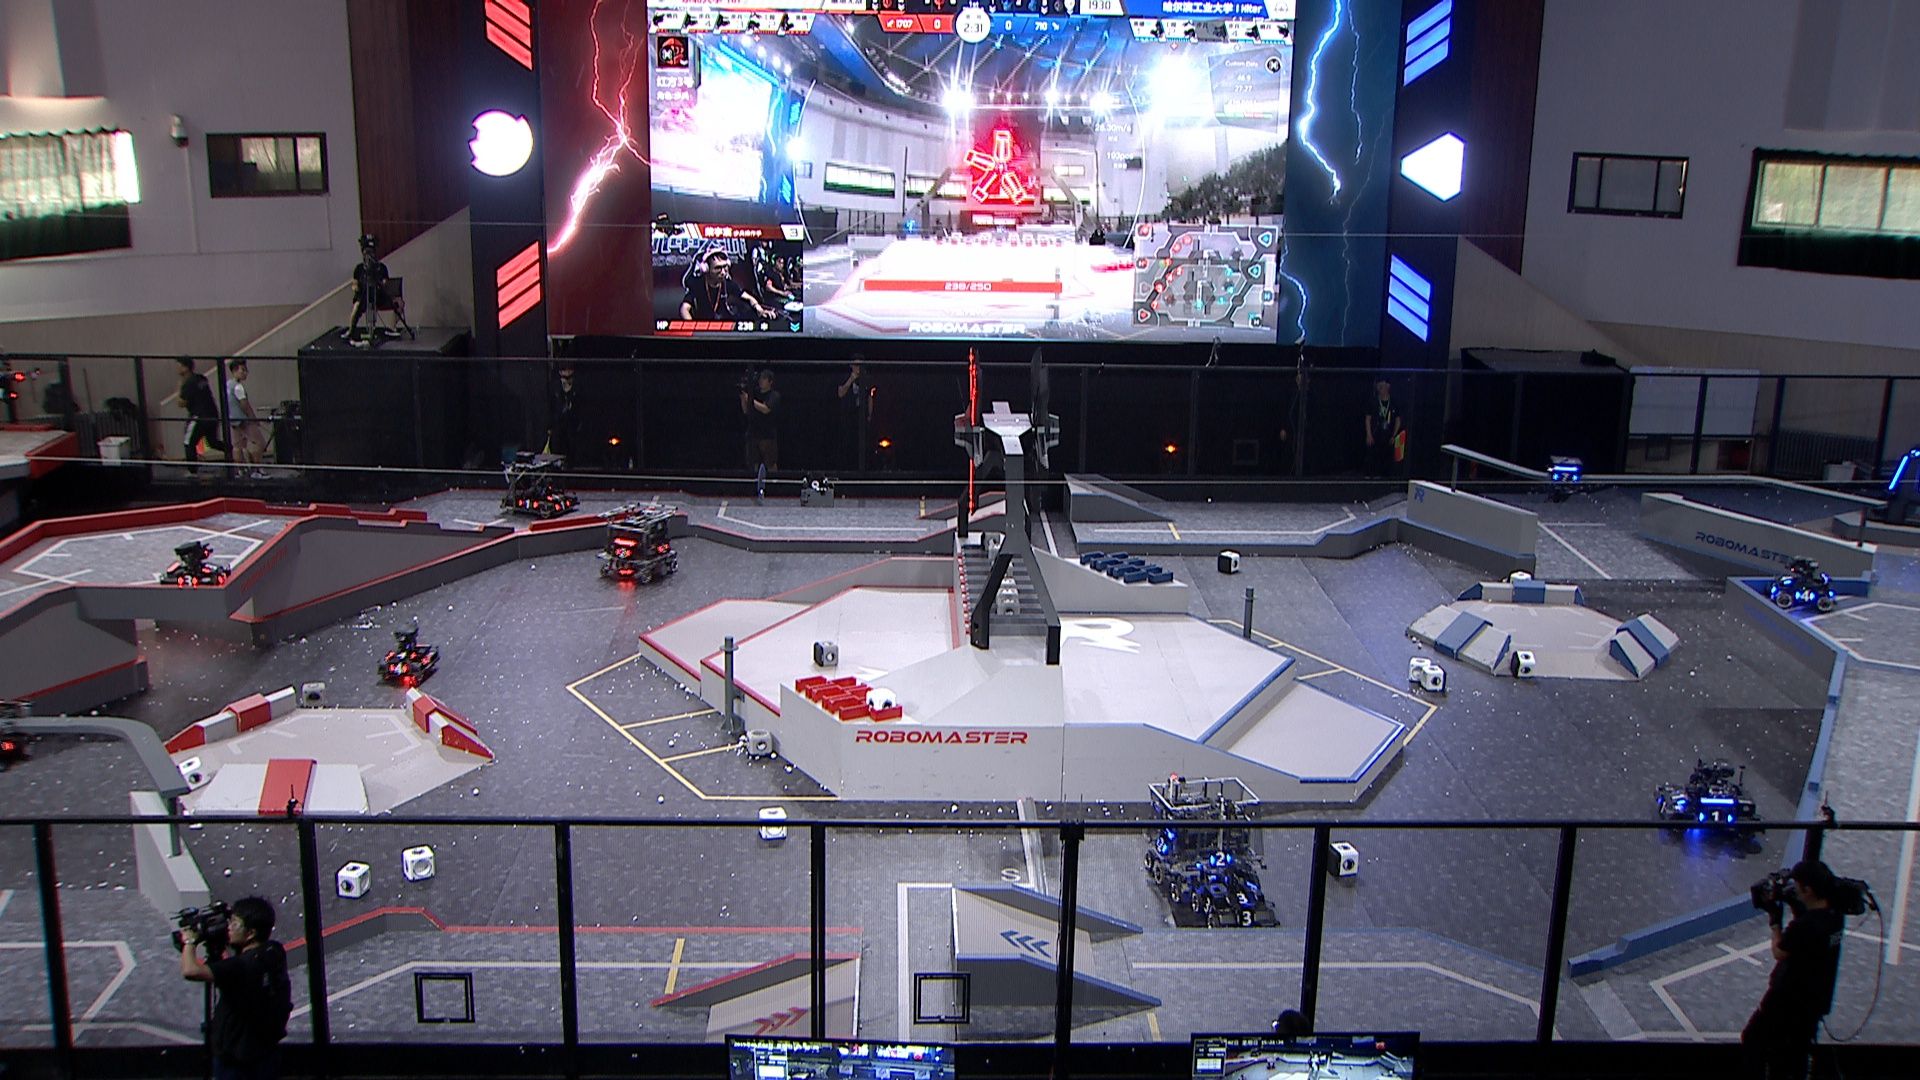armor: (1887, 455, 1909, 491), (1225, 889, 1261, 907), (1698, 808, 1735, 825), (1233, 911, 1259, 930), (1209, 851, 1233, 868), (1551, 471, 1578, 484), (1669, 789, 1689, 807), (516, 496, 541, 510), (1655, 796, 1671, 818), (1795, 588, 1817, 603), (1200, 894, 1215, 916), (1154, 836, 1171, 855), (386, 662, 410, 675), (175, 574, 200, 585), (386, 650, 417, 659), (615, 547, 636, 560), (199, 562, 222, 574), (1778, 574, 1795, 588), (419, 651, 433, 669), (543, 491, 564, 501), (216, 568, 231, 583), (555, 498, 572, 510), (657, 542, 670, 556)
base: (1865, 448, 1920, 531)
car: (1145, 774, 1269, 903), (1654, 757, 1768, 844), (595, 498, 679, 585), (1191, 861, 1282, 936), (500, 452, 579, 520), (158, 541, 233, 597), (378, 618, 440, 684), (1768, 556, 1836, 613)
watcher: (1548, 456, 1586, 504)
